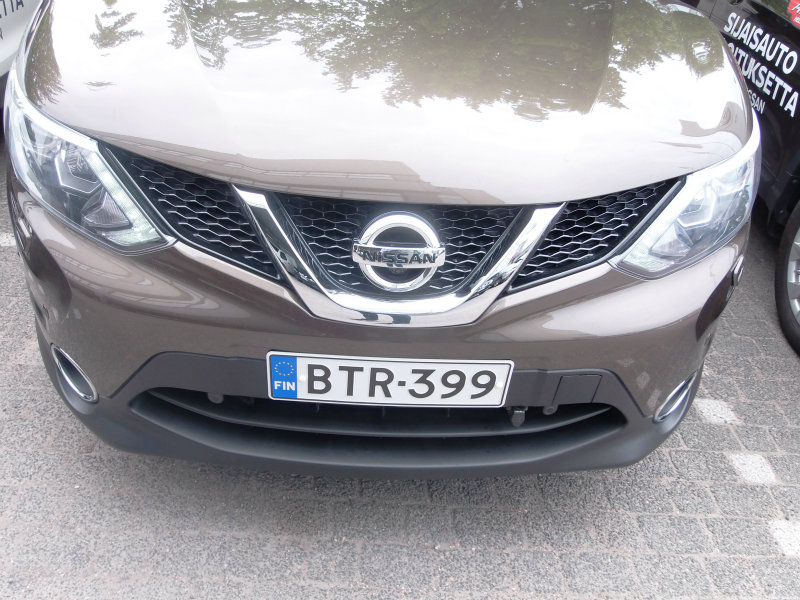license: (265, 349, 508, 412)
